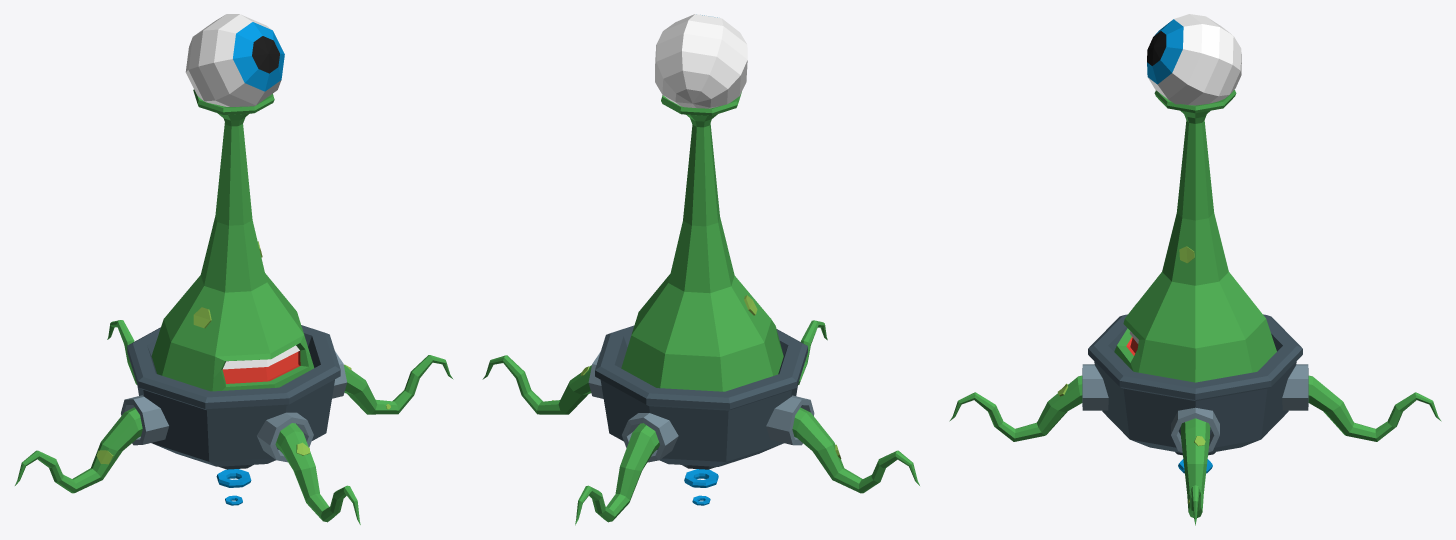
Rendered from alienZarenthis.glb.
The picture shows the model from 3 angles, left to right: view 1: azimuth 30°, elevation 25°; view 2: azimuth 150°, elevation 25°; view 3: azimuth 270°, elevation 25°; orthographic projection. The views are drawn at different scales.
Visible parts, largest first — view 1: Alian_Circle.002; view 2: Alian_Circle.002; view 3: Alian_Circle.002.
Boxes of the visible parts, x1,y1,x2,y2 form: Alian_Circle.002: [15, 14, 453, 524]; Alian_Circle.002: [482, 14, 919, 525]; Alian_Circle.002: [949, 14, 1441, 525].
Bounding box in the file's own units: 11.36 × 11.95 × 11.36.
